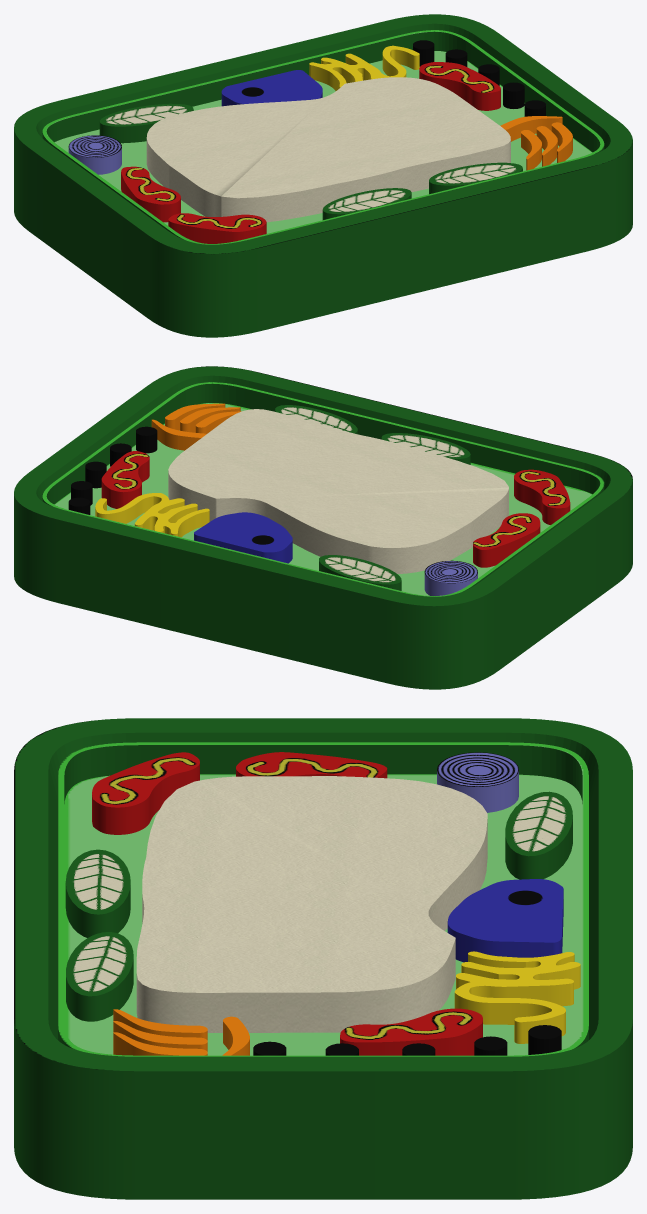
Rendered from Plant Cell.FBX.
The picture shows the model from 3 angles, top to bottom: view 1: azimuth 30°, elevation 25°; view 2: azimuth 150°, elevation 25°; view 3: azimuth 270°, elevation 25°; orthographic projection. The views are drawn at different scales.
Parts seen in each view (by area): view 1: Box001, Line001, Line010, Line002, Line003, Line005, Ellipse003, Line004, Circle001, Ellipse002, Ellipse001, Line009 (+4 smaller); view 2: Box001, Line001, Line002, Line010, Line004, Line003, Line005, Ellipse003, Circle001, Ellipse001, Ellipse002, Line009 (+5 smaller); view 3: Box001, Line001, Line010, Line002, Line003, Ellipse002, Ellipse003, Ellipse001, Line005, Circle001, Line004, Line006 (+4 smaller).
Boxes of the visible parts, x1,y1,x2,y2 form: Box001: (14,14,632,337); Line001: (146,77,510,222); Line010: (309,45,419,90); Line002: (221,70,322,106); Line003: (168,213,266,243); Line005: (419,62,500,110); Ellipse003: (99,103,193,143); Line004: (121,166,180,222); Circle001: (68,135,121,174); Ellipse002: (429,162,522,194); Ellipse001: (322,188,411,219); Line009: (500,116,562,141); Box001: (14,366,632,689); Line001: (168,409,508,573); Line002: (194,512,292,563); Line010: (95,493,209,537); Line004: (473,513,540,567); Line003: (514,469,570,524); Line005: (101,451,149,508); Ellipse003: (319,555,401,590); Circle001: (424,560,477,595); Ellipse001: (381,433,470,464); Ellipse002: (275,405,357,434); Line009: (151,419,206,450); Box001: (14,718,632,1199); Line001: (136,776,487,1032); Line010: (454,951,580,1043); Line002: (447,879,563,962); Line003: (92,752,199,834); Ellipse002: (66,932,133,1021); Ellipse003: (505,791,572,879); Ellipse001: (65,849,130,937); Line005: (340,1008,482,1055); Circle001: (437,752,518,812); Line004: (236,752,387,778); Line006: (113,1009,207,1040).
Bounding box in the file's own units: 86.64 × 15.3 × 64.21.
Materials: 9 (6 with a texture image).
